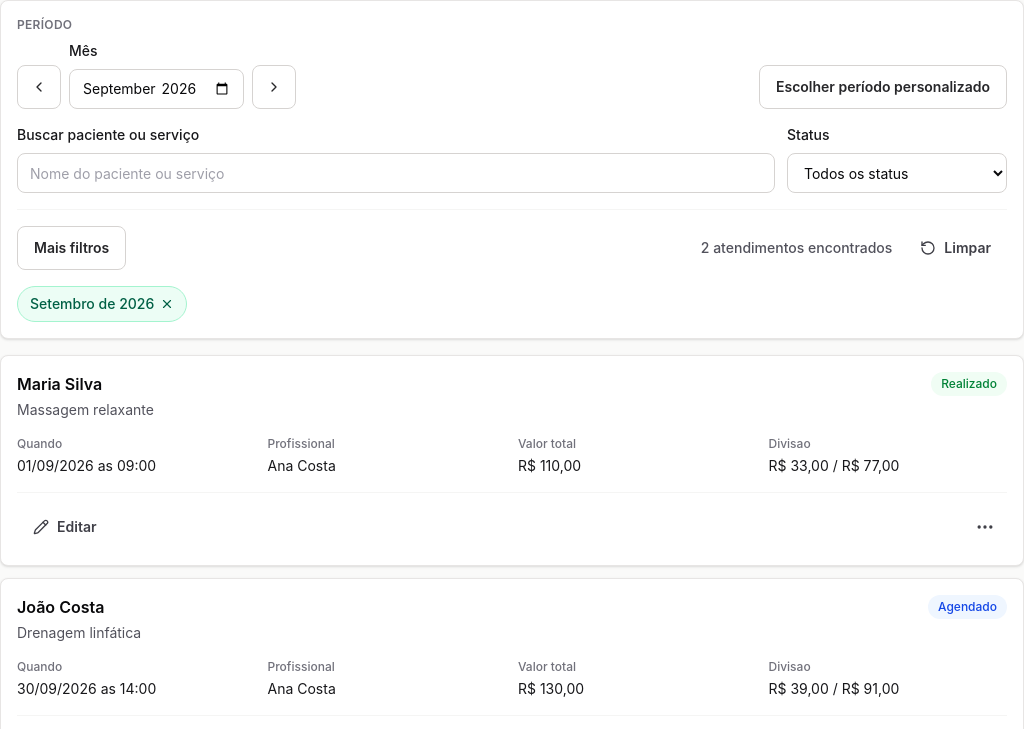
appointments mobile filters › mantem Editar visivel e confirma a remocao pelo menu do card
The image size is (1024, 729).
Click the button named "Mais ações para Maria Silva" at (985, 527), box [963,505,1007,549]
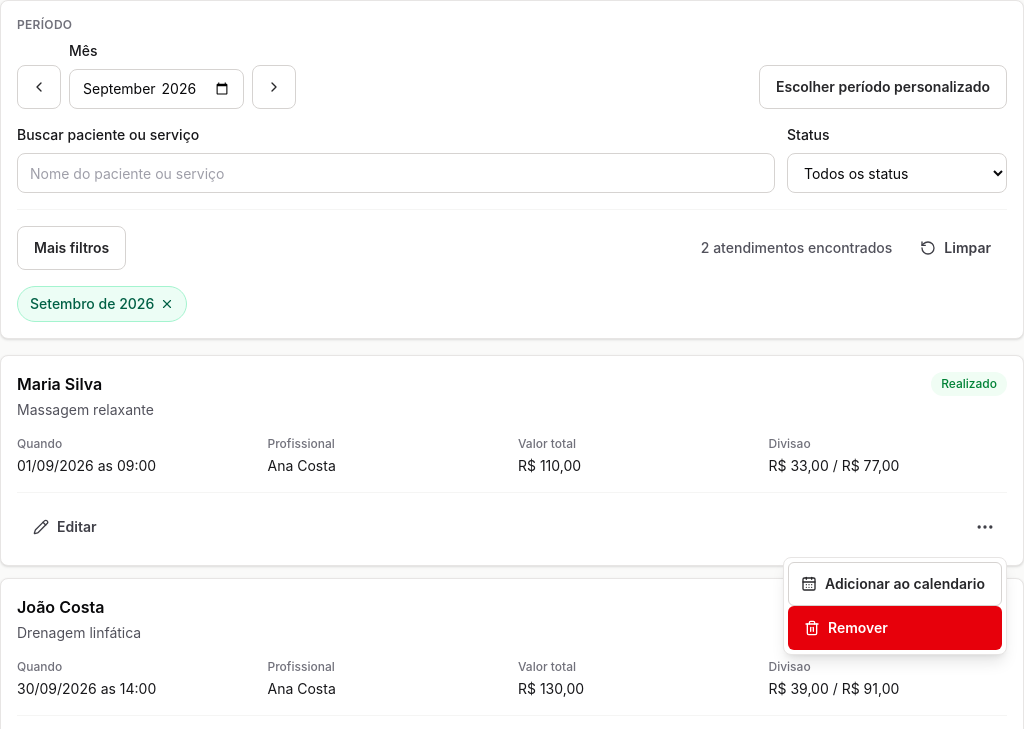
expect the menu shows "Adicionar ao calendario": met, box [788,562,1002,606]
expect the menu shows "Remover": met
Click the menu item "Remover" at (895, 628), box [788,606,1002,650]
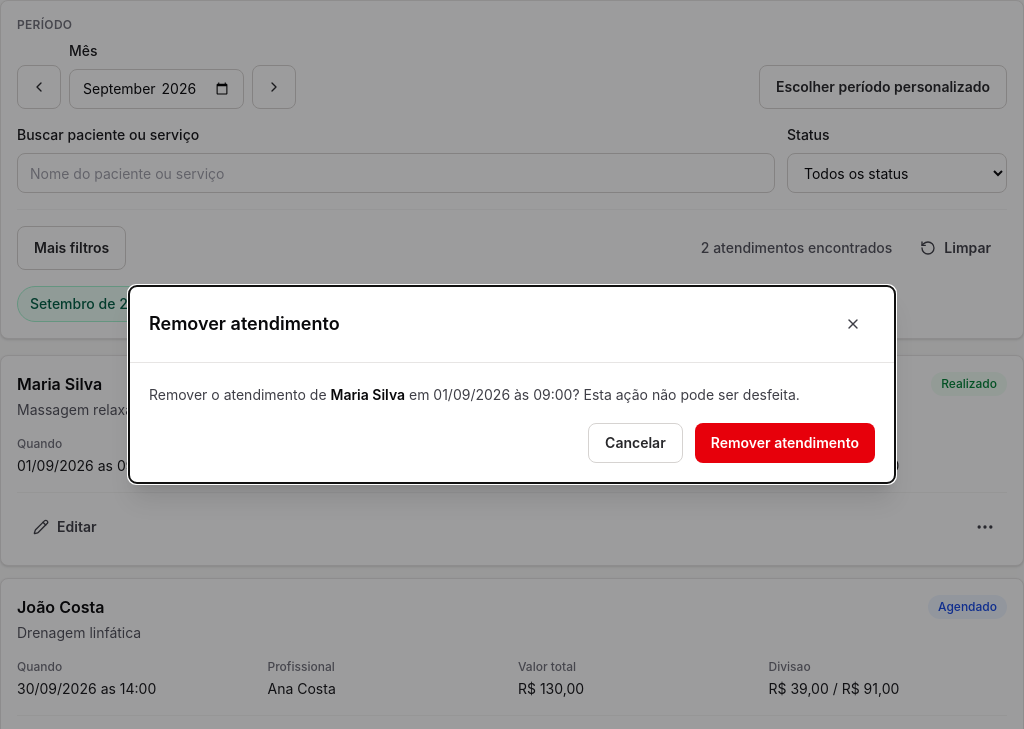
expect the text "Esta ação não pode ser desfeita." is shown: met, box [572,386,800,402]
Click the button "Cancelar" at (635, 442), box [588,422,683,462]
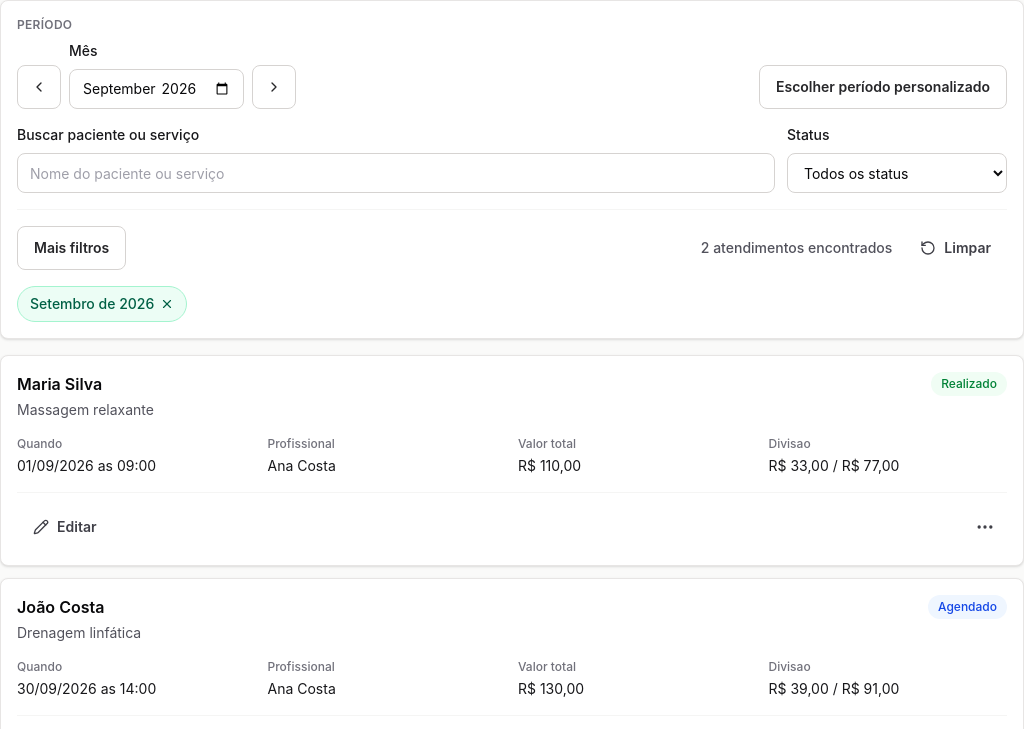
Click the button named "Mais ações para Maria Silva" at (985, 527), box [963,505,1007,549]
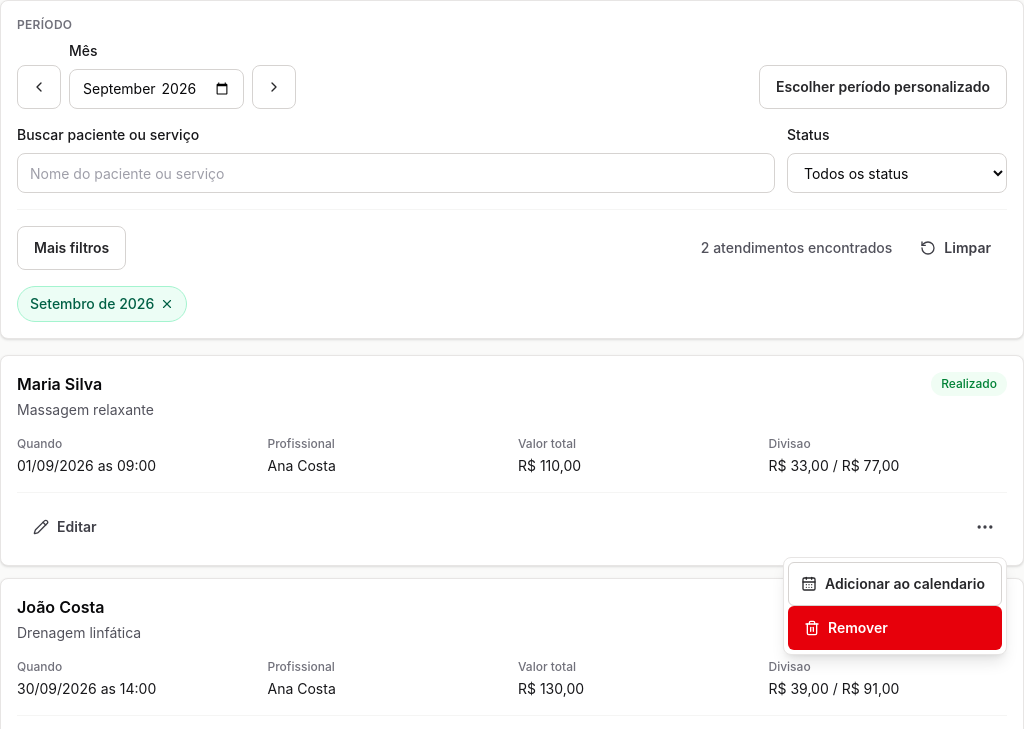
Click the menu item "Remover" at (895, 628), box [788,606,1002,650]
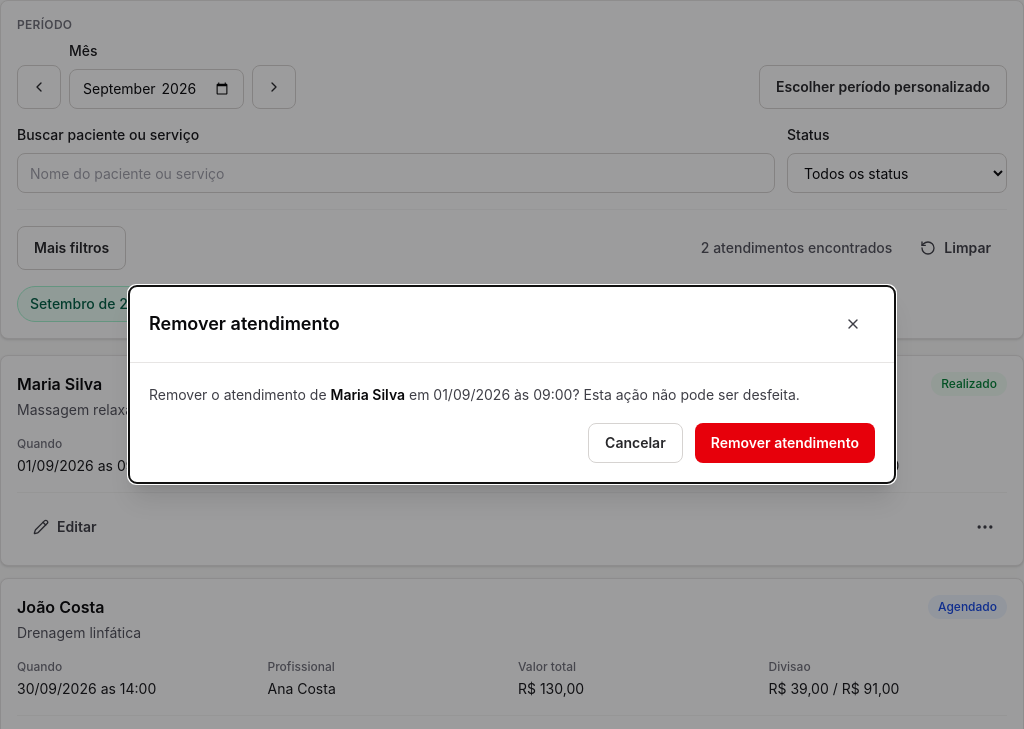
Click the button "Remover atendimento" at (785, 442), box [695,422,875,462]
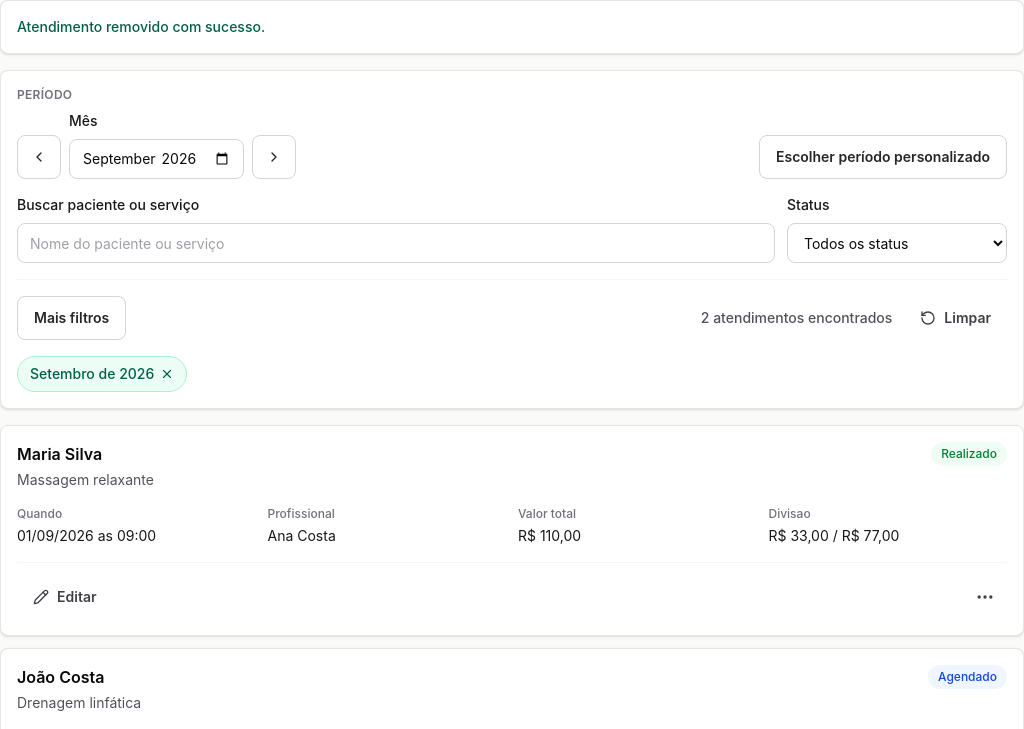
expect the text "Atendimento removido com sucesso." is shown: met, box [17,18,265,35]
